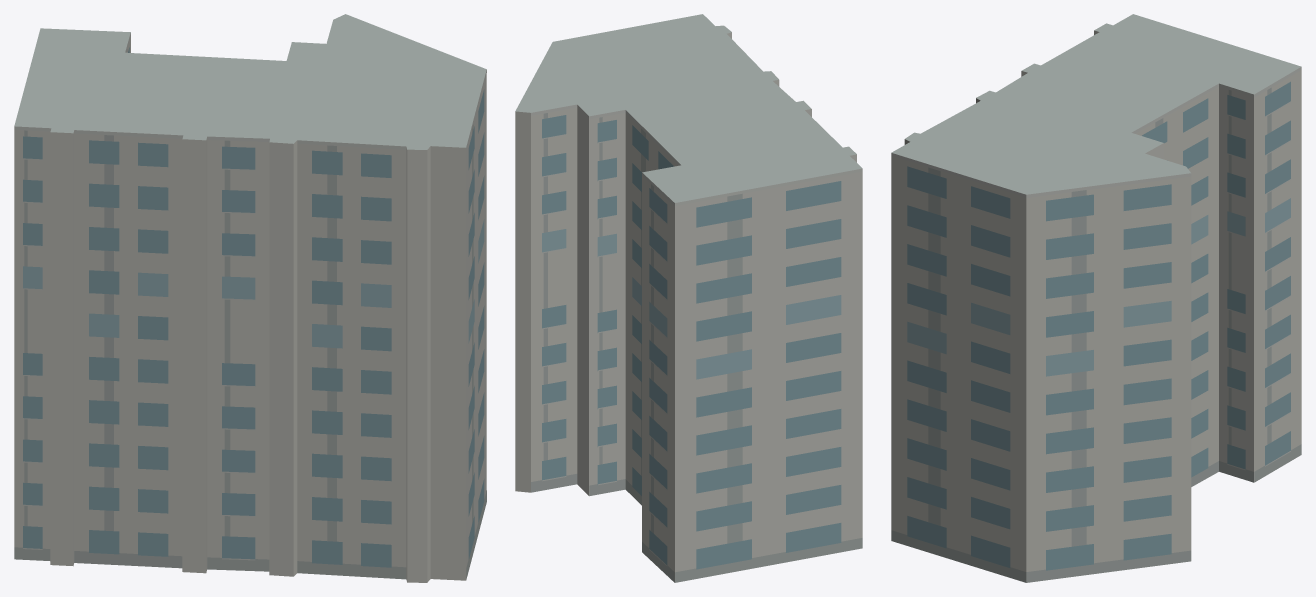
File: residential-00f6c11e-781c-4343-bef4-05d1feb2d75f.glb
The picture shows the model from 3 angles, left to right: view 1: azimuth 30°, elevation 25°; view 2: azimuth 150°, elevation 25°; view 3: azimuth 270°, elevation 25°; orthographic projection. The views are drawn at different scales.
Visible parts, largest first — view 1: residential-00f6c11e-781c-4343-bef4-05d1feb2d75f.tmp; view 2: residential-00f6c11e-781c-4343-bef4-05d1feb2d75f.tmp; view 3: residential-00f6c11e-781c-4343-bef4-05d1feb2d75f.tmp.
Part boxes in pixels (x1,y1,x2,y2): residential-00f6c11e-781c-4343-bef4-05d1feb2d75f.tmp: (14, 14, 486, 582); residential-00f6c11e-781c-4343-bef4-05d1feb2d75f.tmp: (515, 14, 862, 582); residential-00f6c11e-781c-4343-bef4-05d1feb2d75f.tmp: (891, 14, 1301, 582).
Bounding box in the file's own units: 29.96 × 30 × 28.75.
